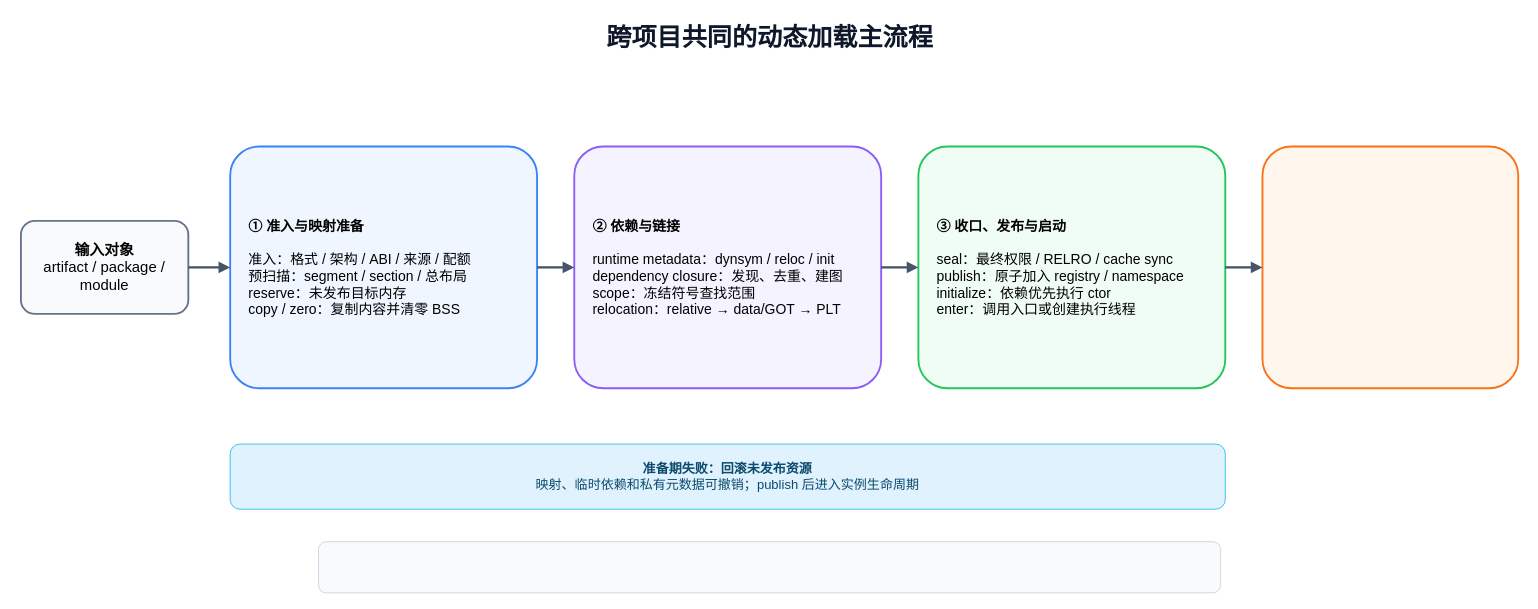
The diagram is 1538 pixels wide and 609 high, and some of its shapes have lost their labels. The shapes that lost their labels are listed below. From the top down, each one's centre as x and y in pixels, then its label:
[1390,267]: ④ 退出与回收 停止新引用 等待线程 / 回调 / TLS 静默 逆序 fini unpublish / free
[769,567]: 纯装载器可能裁剪 dependency / scope；ET_REL 模块可能按 section 装入，但保留下来的阶段仍不能颠倒。
